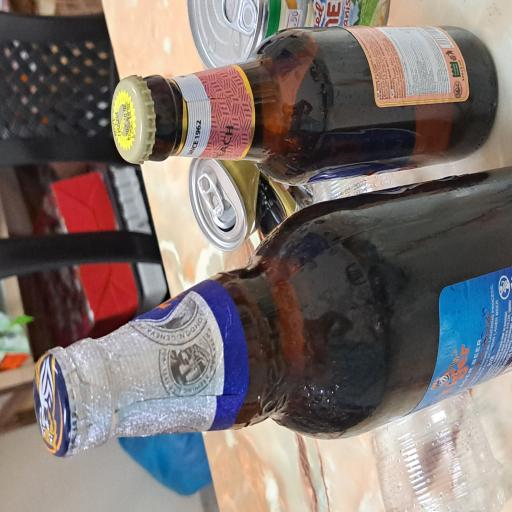glass bottle: (43, 46, 260, 512), (255, 142, 367, 512)
